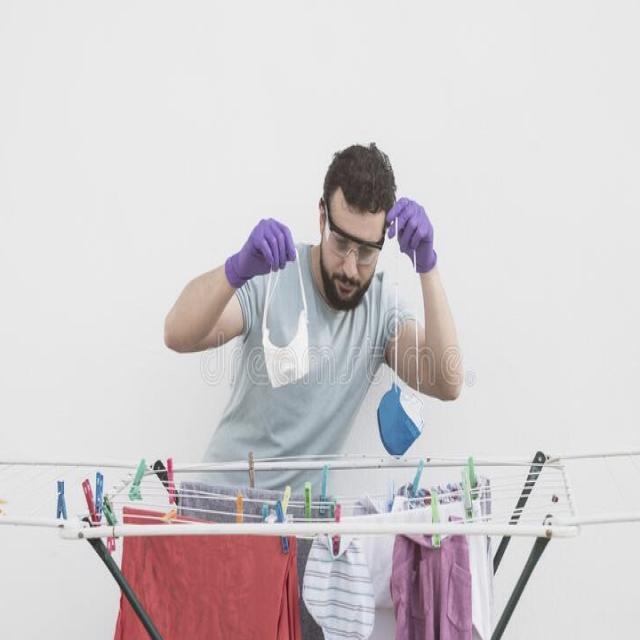clothes: (122, 550, 504, 640)
